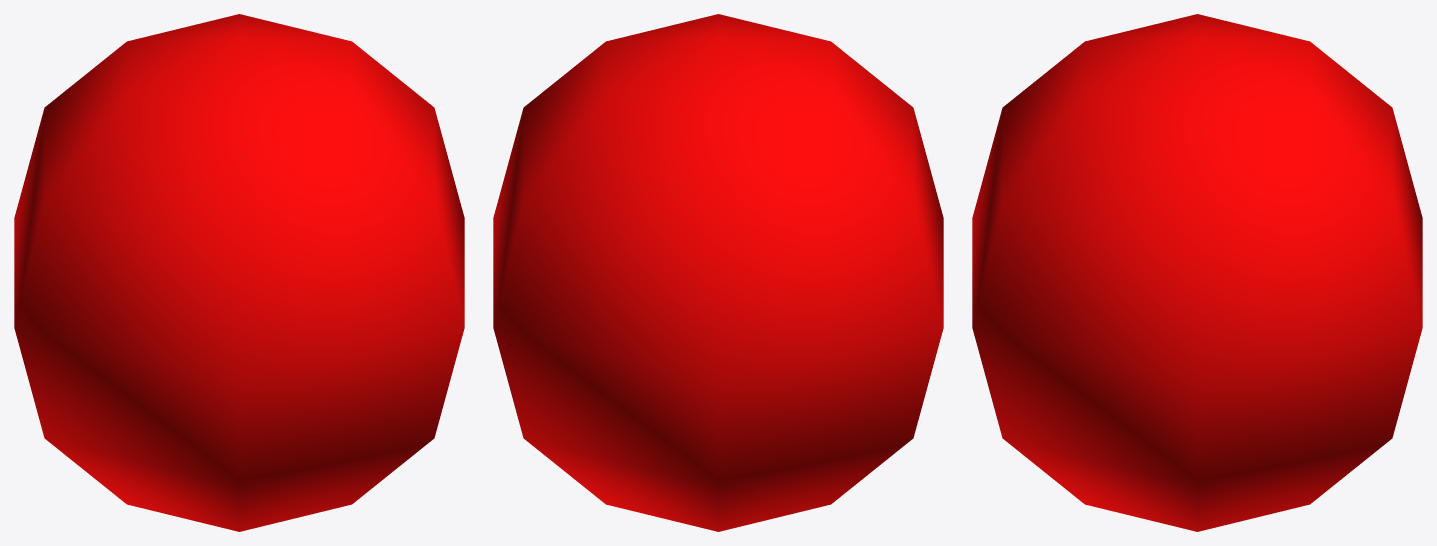
File: Mark.fbx
The picture shows the model from 3 angles, left to right: view 1: azimuth 30°, elevation 25°; view 2: azimuth 150°, elevation 25°; view 3: azimuth 270°, elevation 25°; orthographic projection.
Parts seen in each view (by area): view 1: Mark; view 2: Mark; view 3: Mark.
Part boxes in pixels (x1,y1,x2,y2): Mark: (14,14,464,531); Mark: (493,14,943,531); Mark: (972,14,1422,531).
Bounding box in the file's own units: 10 × 10 × 8.66.
Materials: 1 (1 with a texture image).
